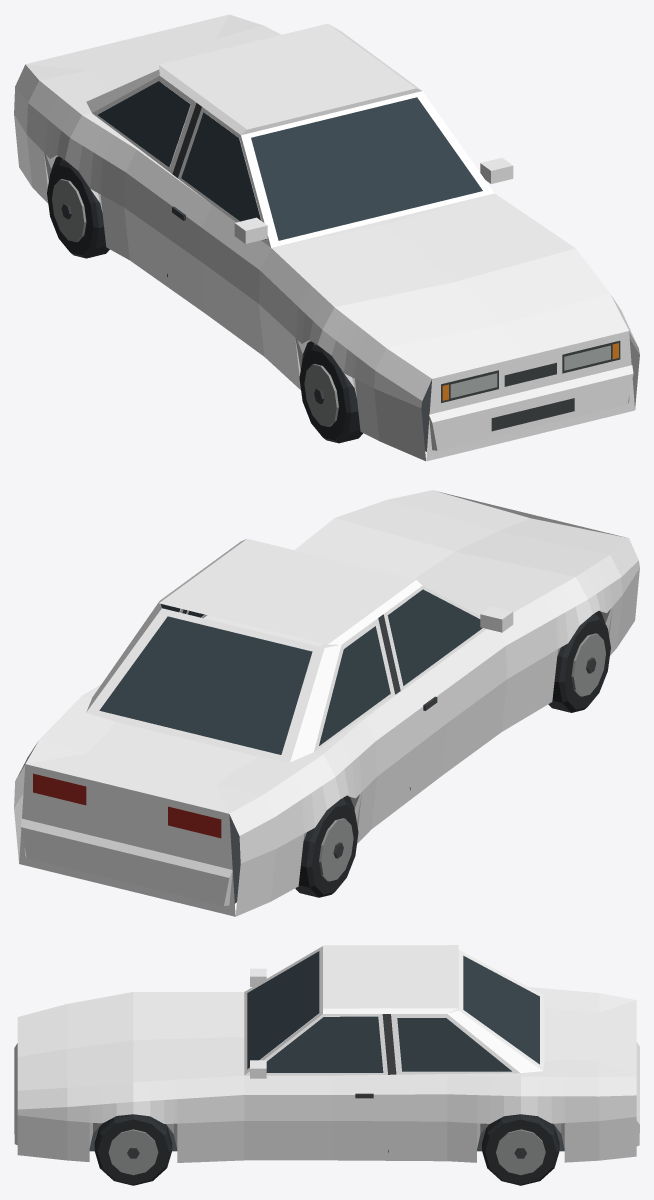
File: kanaya_yukihana.glb
The picture shows the model from 3 angles, top to bottom: view 1: azimuth 30°, elevation 25°; view 2: azimuth 150°, elevation 25°; view 3: azimuth 270°, elevation 25°; orthographic projection. The views are drawn at different scales.
Visible parts, largest first — view 1: kanaya_yukihana; view 2: kanaya_yukihana; view 3: kanaya_yukihana.
Part boxes in pixels (x1,y1,x2,y2): kanaya_yukihana: (14, 14, 639, 461); kanaya_yukihana: (14, 490, 639, 916); kanaya_yukihana: (14, 945, 639, 1185).
Size of the model in its own units: 1.75 by 1.27 by 4.49.
Materials: 8 (1 with a texture image).
